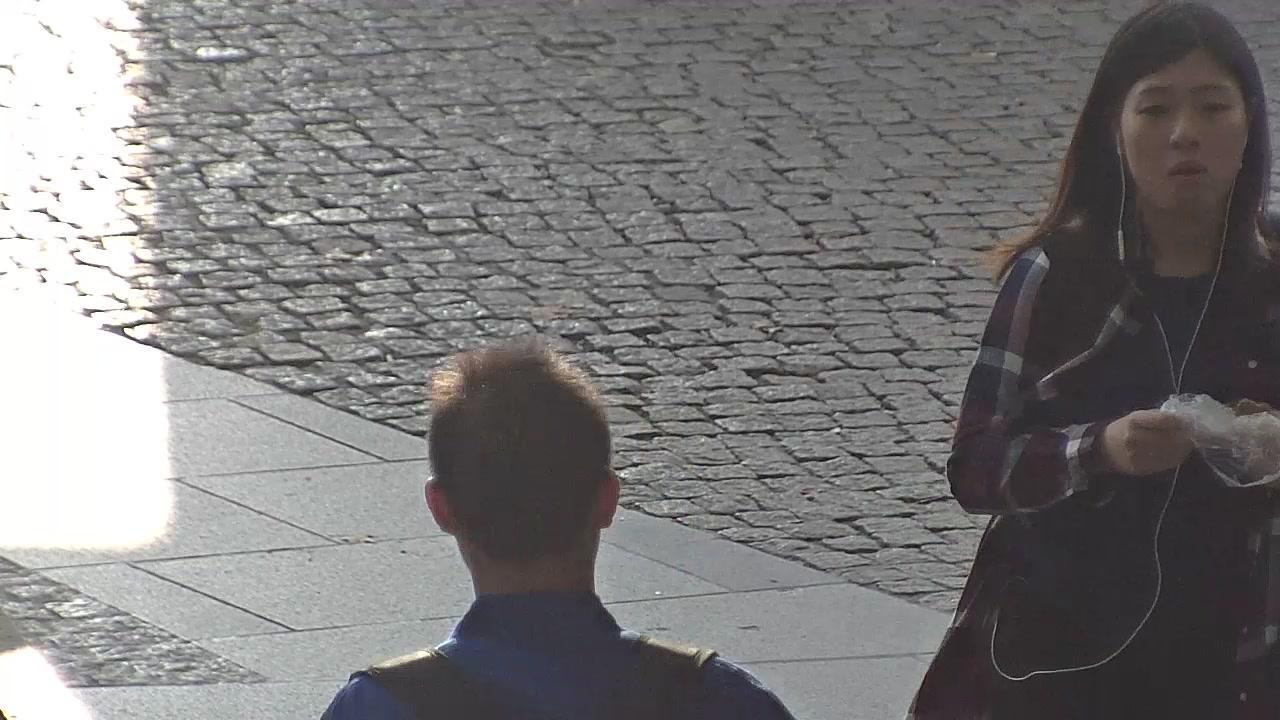person: (905, 0, 1280, 719), (313, 337, 794, 720)
